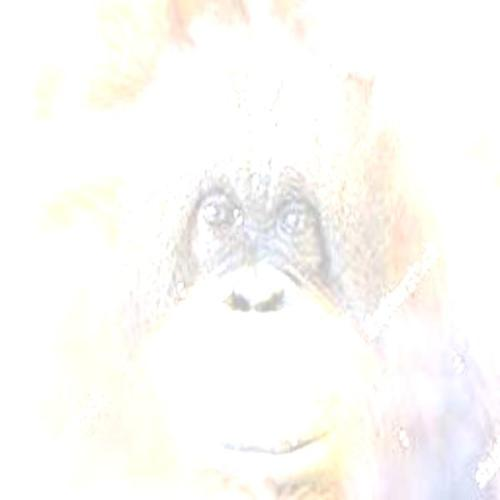orangutan-endangered: (114, 89, 416, 469)
